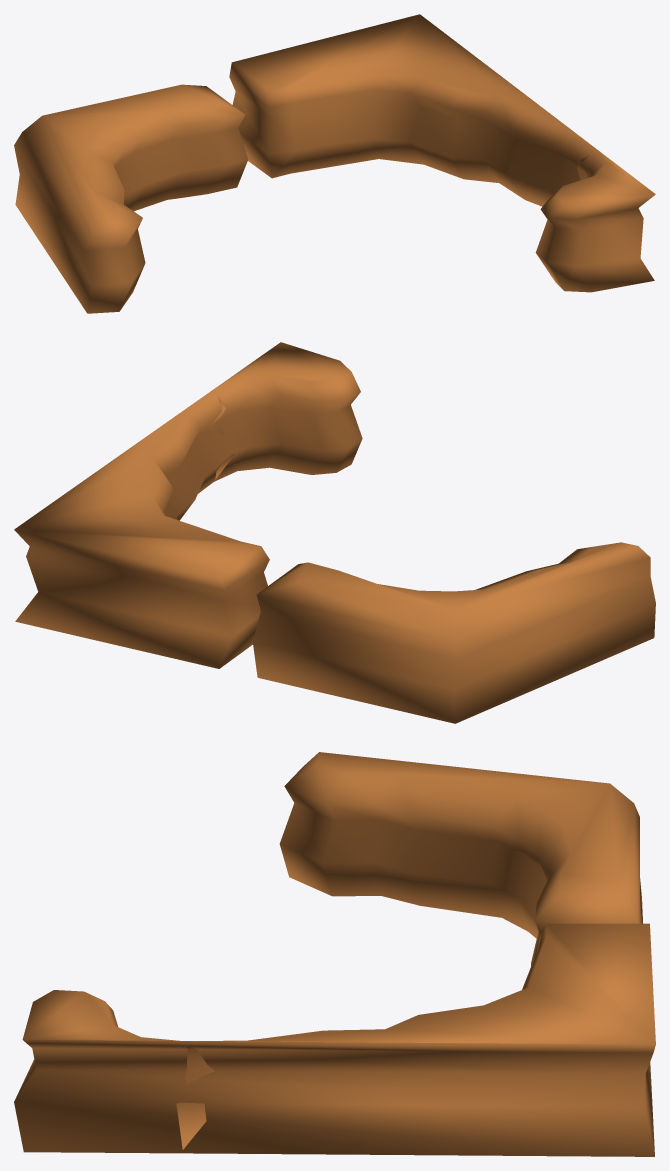
File: city.glb
3 renders of one model, top to bottom at view 1: azimuth 30°, elevation 25°; view 2: azimuth 150°, elevation 25°; view 3: azimuth 270°, elevation 25°, orthographic. The views are drawn at different scales.
Parts seen in each view (by area): view 1: Plane.001-col; view 2: Plane.001-col; view 3: Plane.001-col.
Boxes of the visible parts, x1,y1,x2,y2 form: Plane.001-col: (14, 14, 655, 313); Plane.001-col: (14, 342, 655, 723); Plane.001-col: (14, 752, 655, 1156).
Bounding box in the file's own units: 500 × 96.68 × 457.
